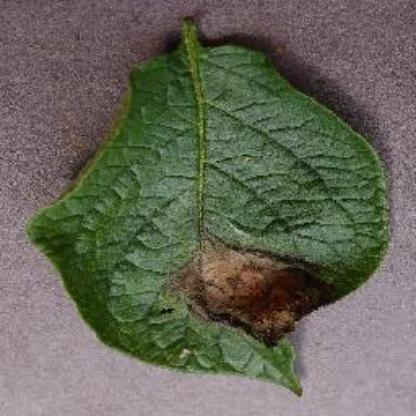Late-Blight: (28, 20, 400, 396)
